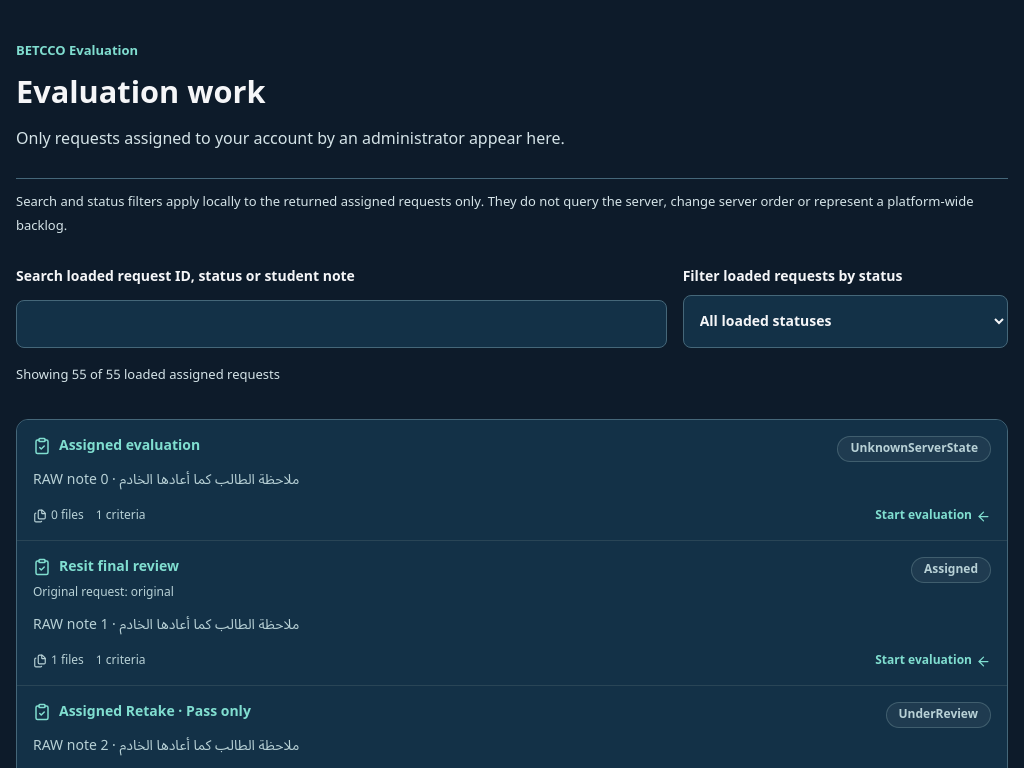
Test case: Teacher workload presentation (en) › keeps cached formal queue and selected filters after refresh error, without mutation
Expected: the text "UnknownServerState" is shown, x1=838 y1=436 x2=991 y2=462
In the search field labelled "Search loaded request ID, status or student note": (341, 324) x1=16 y1=300 x2=667 y2=348, type "request-54"
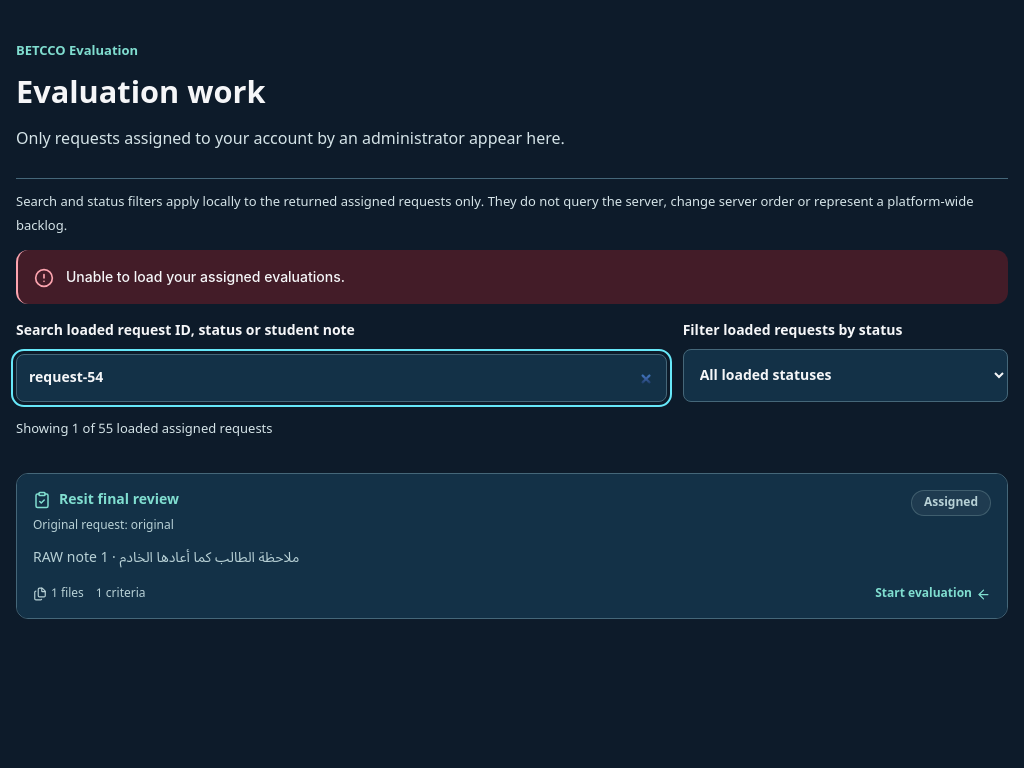
Result: the message "Unable to load your assigned evaluations." is shown at x1=16 y1=250 x2=1008 y2=304
